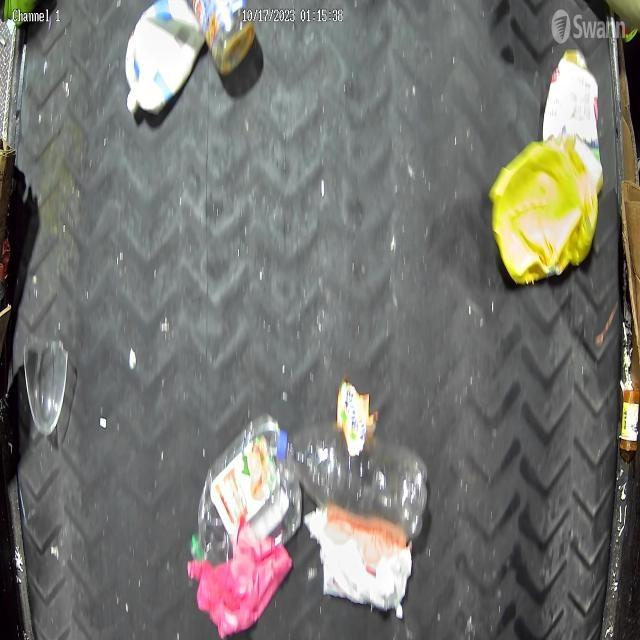non_white_jug: (490, 142, 598, 286)
plastic_bottle: (278, 426, 428, 540)
